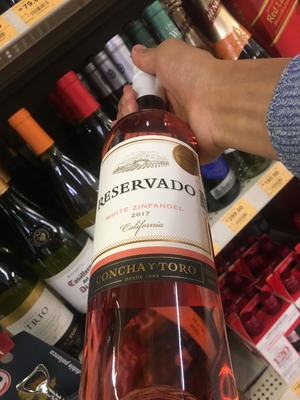reservado white zinfandel: (97, 43, 209, 394)
